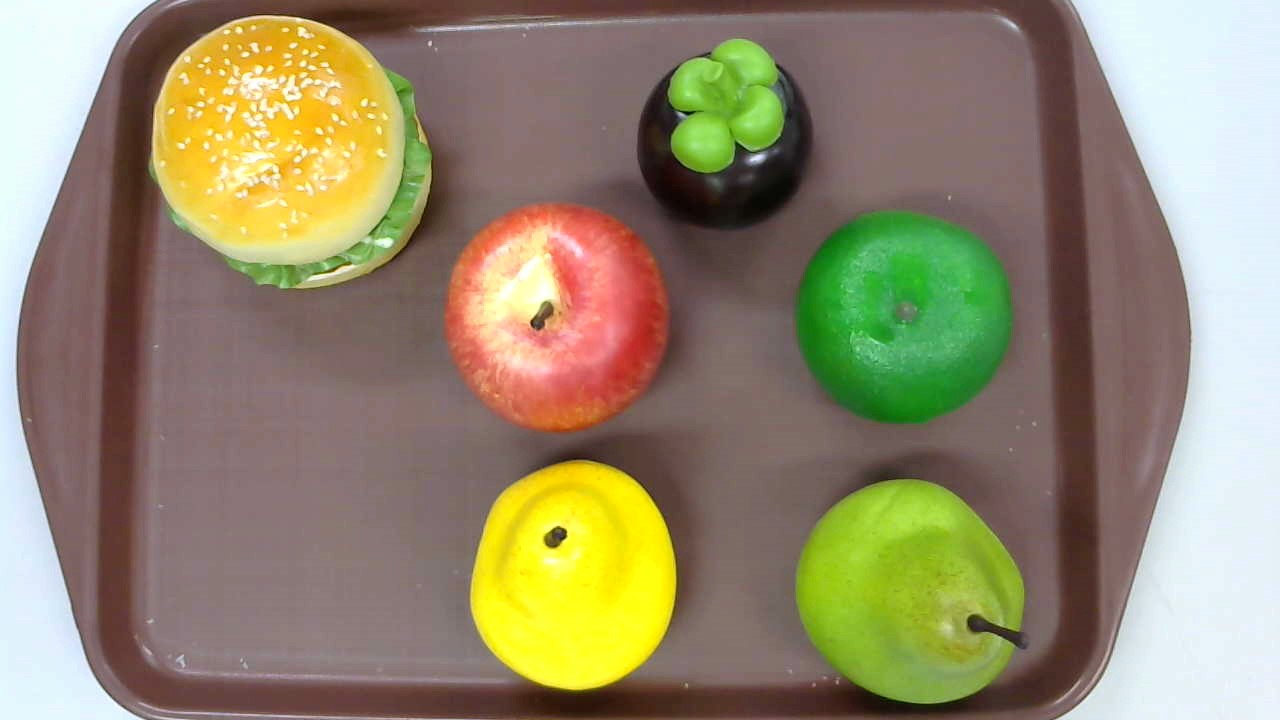green orange: (794, 209, 1014, 427)
green pear: (795, 479, 1028, 703)
hamburger: (147, 16, 431, 290)
mangosteen: (636, 37, 812, 232)
red apple: (445, 203, 671, 437)
yellow pear: (470, 458, 679, 691)
